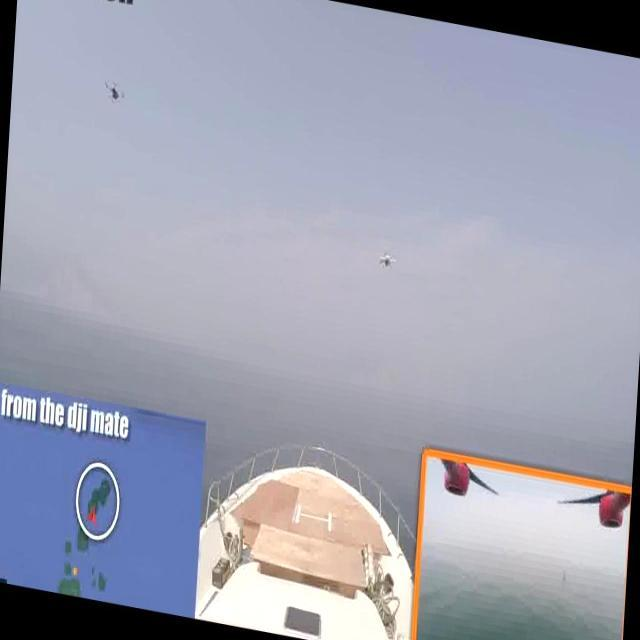drone: (368, 238, 404, 292), (99, 69, 134, 119)
